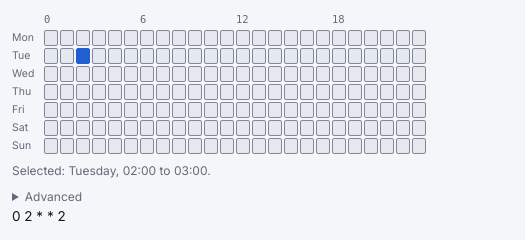
Test case: WeekPainter › reports an empty grid as no expression rather than an invalid one
Click the cell named "Tuesday 02:00" at (83, 56), box [76,48,90,64]
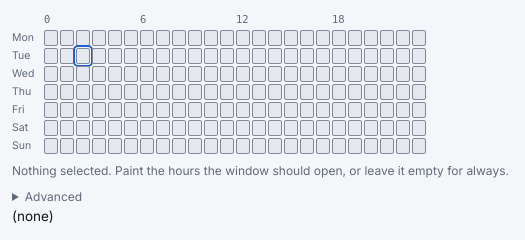
Result: the text with test id "cron" reads "(none)" at [12,208,54,224]
